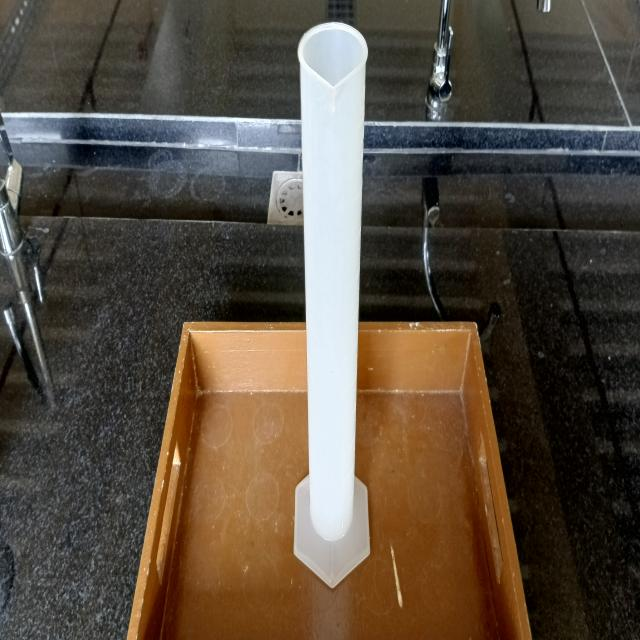graduated_cylinder: (283, 15, 382, 596)
